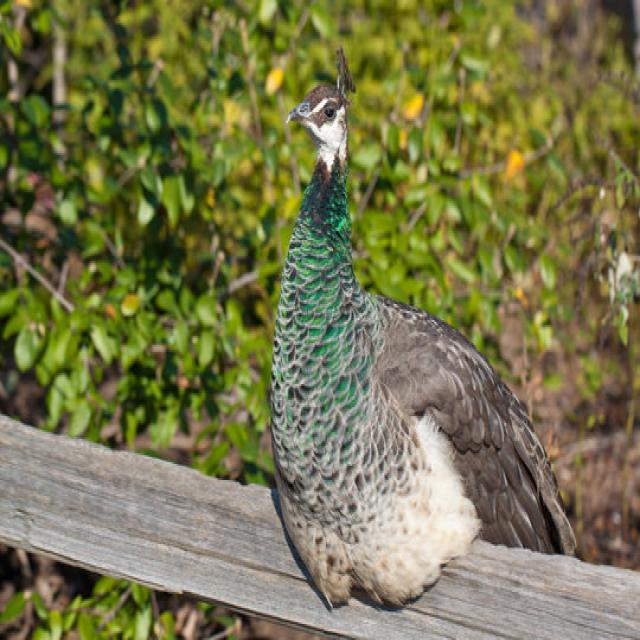peacock: (263, 38, 587, 620)
